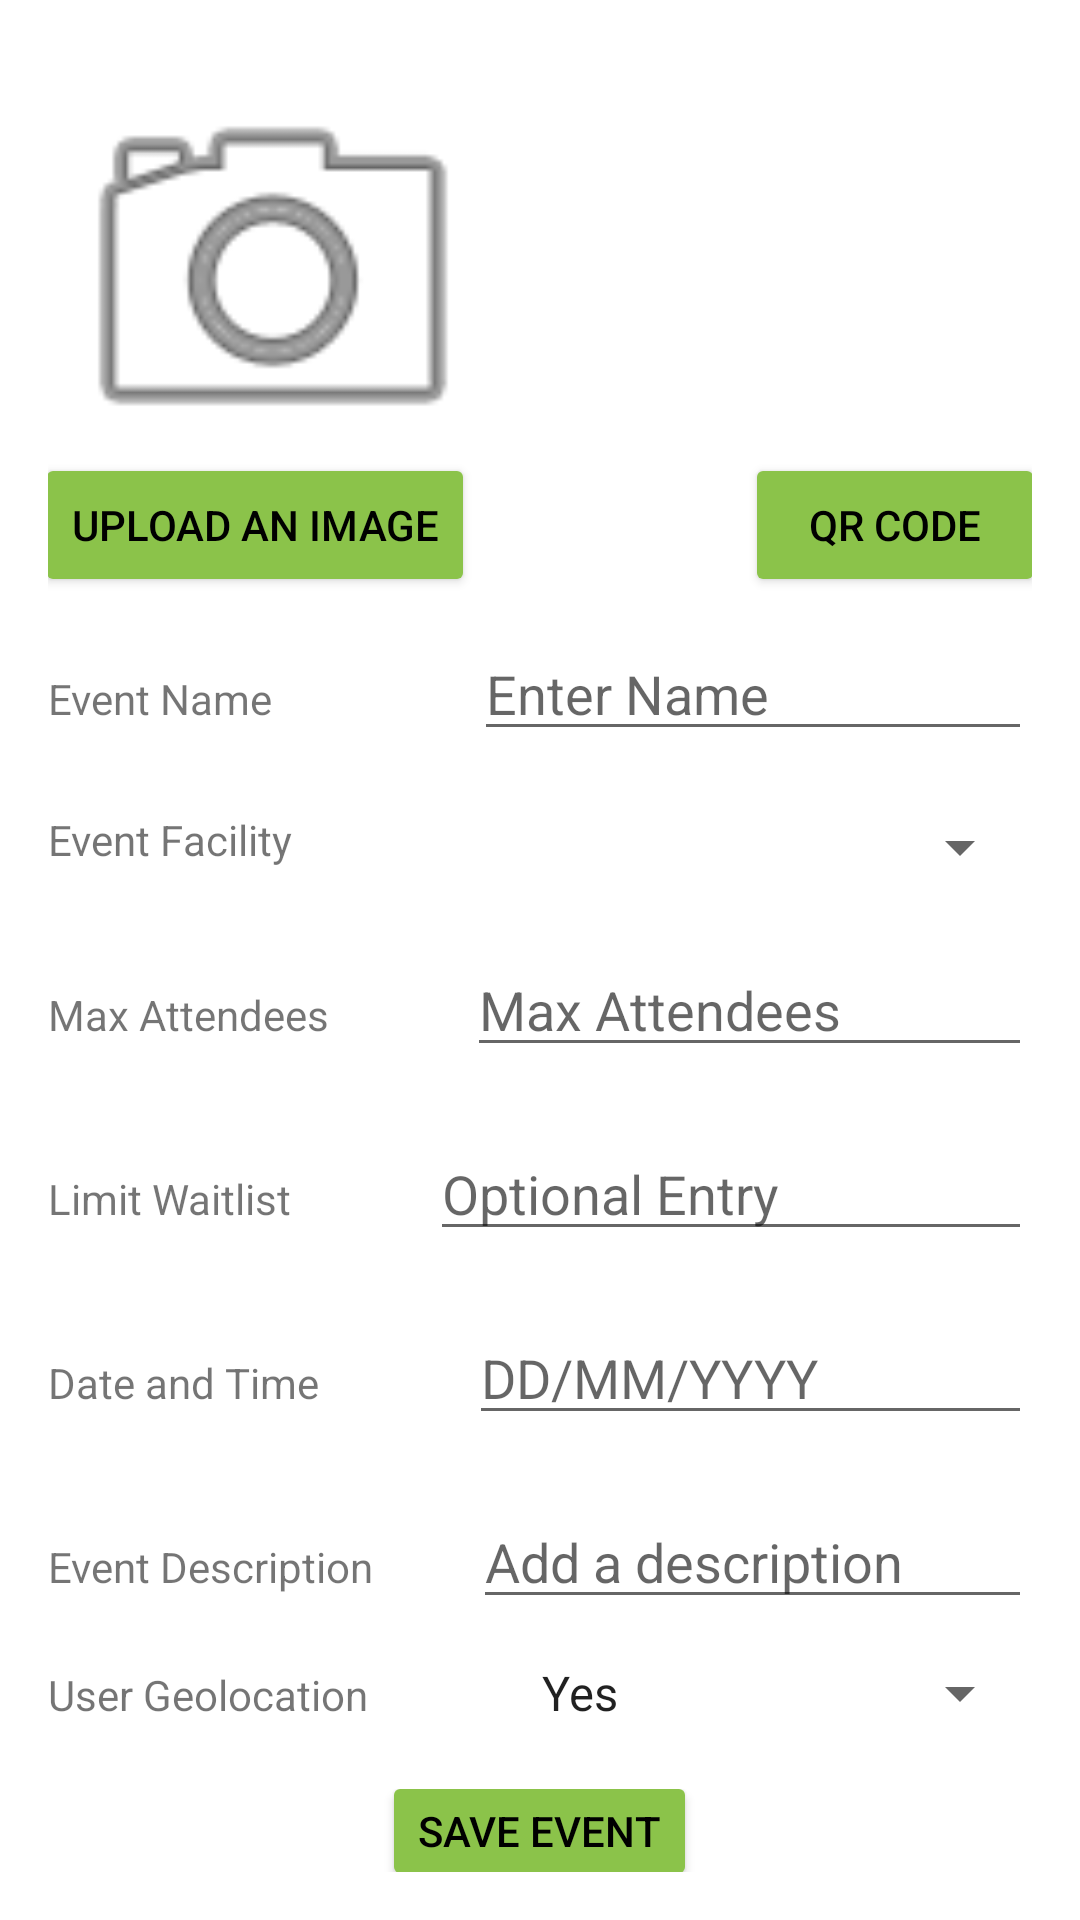

Screen size 1080px x 1920px. Icon name, then its center in pixels as [x,y]:
Event Image: [273,266]
